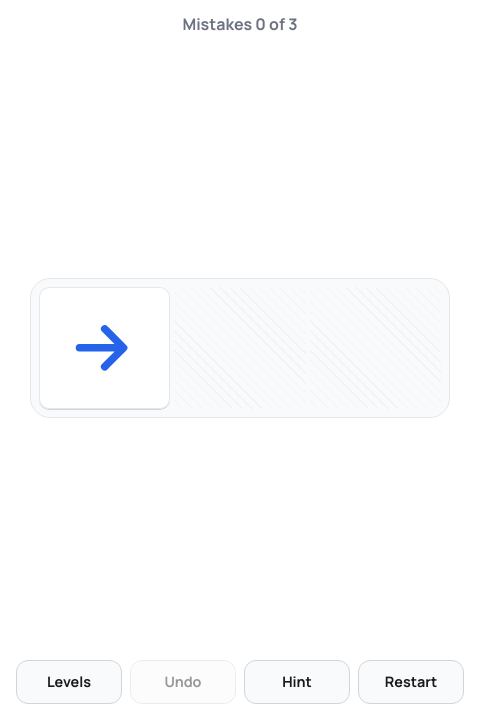
Test: PlayScreen: tapping › slides a free arrow off, animates it and counts no mistake
This screenshot has width=481, height=720.
Click the button named "Arrow pointing right": click(105, 348) [39,287,170,409]
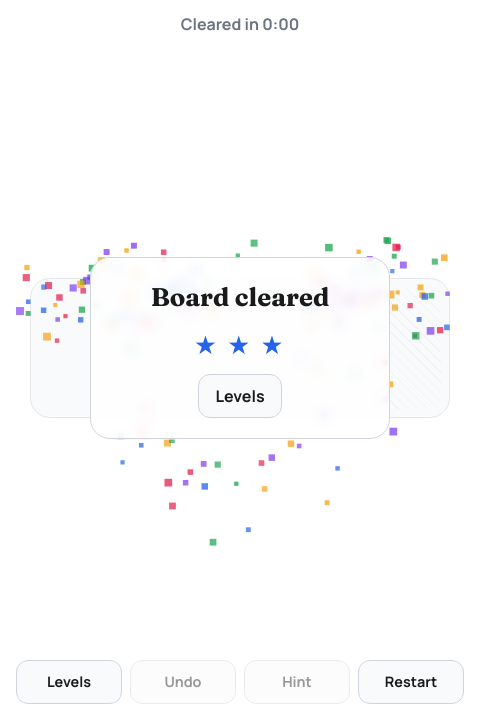
Now the message reads "Cleared in 0:00", box [181,13,299,35]
